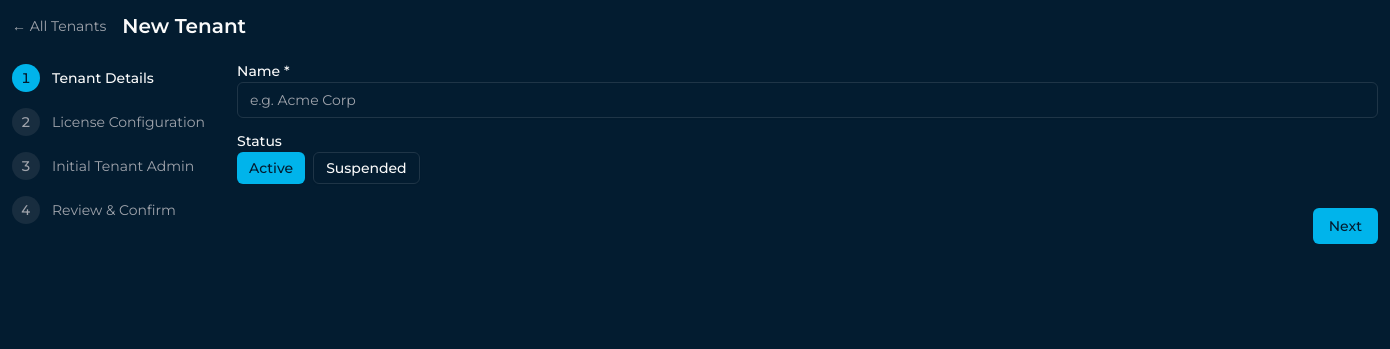
TenantProvisioningPage › step 3 validation: with skip unchecked, Next with empty fields shows errors
Type "Acme Corp" into the field labelled "Name *" at x=808, y=100, box [237, 82, 1378, 118]
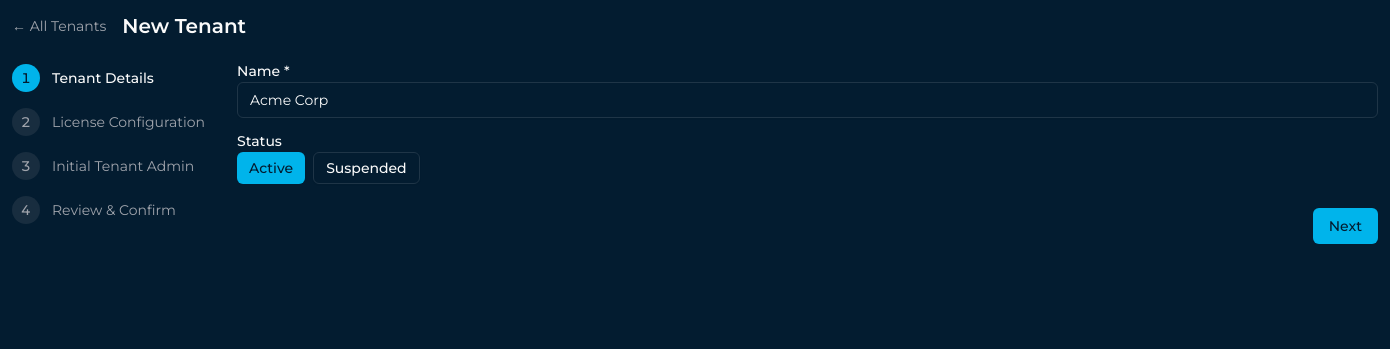
Click the button "Next" at x=1345, y=226, box [1313, 208, 1378, 244]
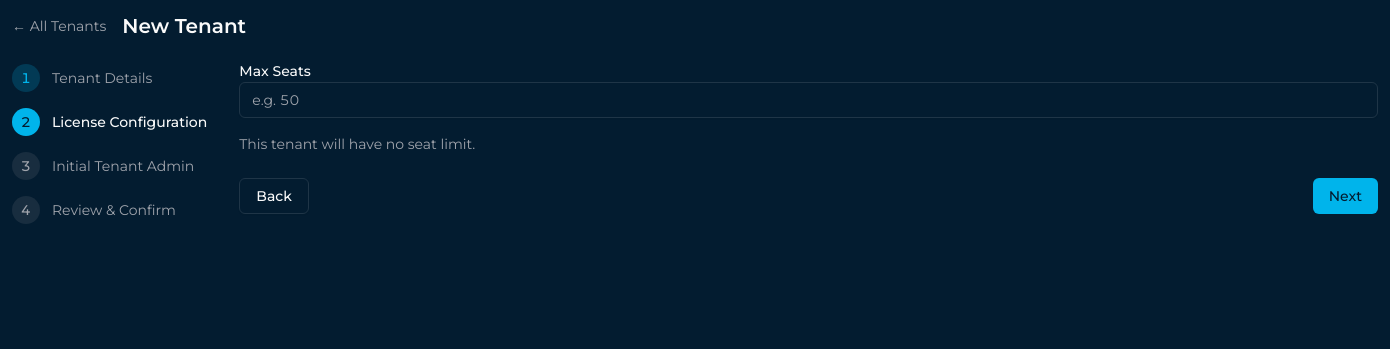
Now the number field labelled "Max Seats" is shown, box [239, 82, 1378, 118]
Click the button "Next" at x=1345, y=196, box [1313, 178, 1378, 214]
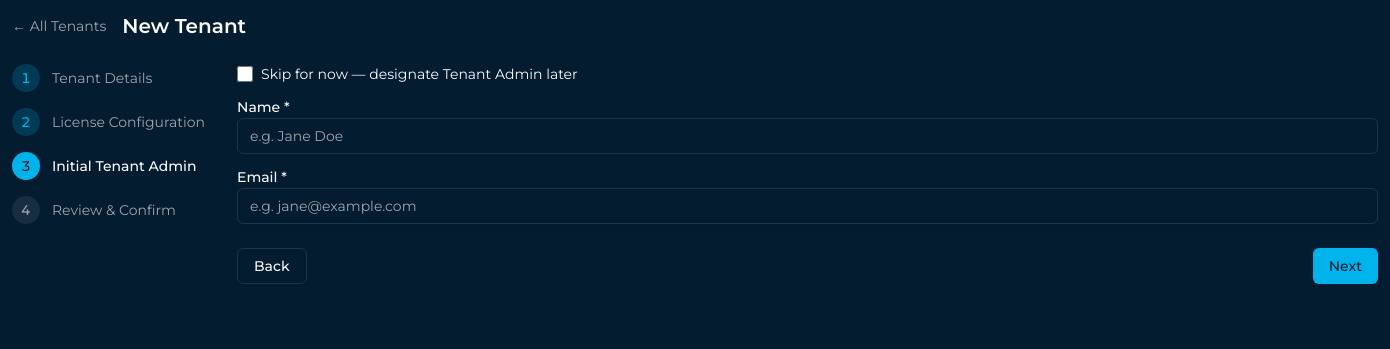
Now the text "Skip for now — designate Tenant Admin later" is shown, box [261, 64, 578, 84]
Click the button "Next" at x=1345, y=266, box [1313, 248, 1378, 284]
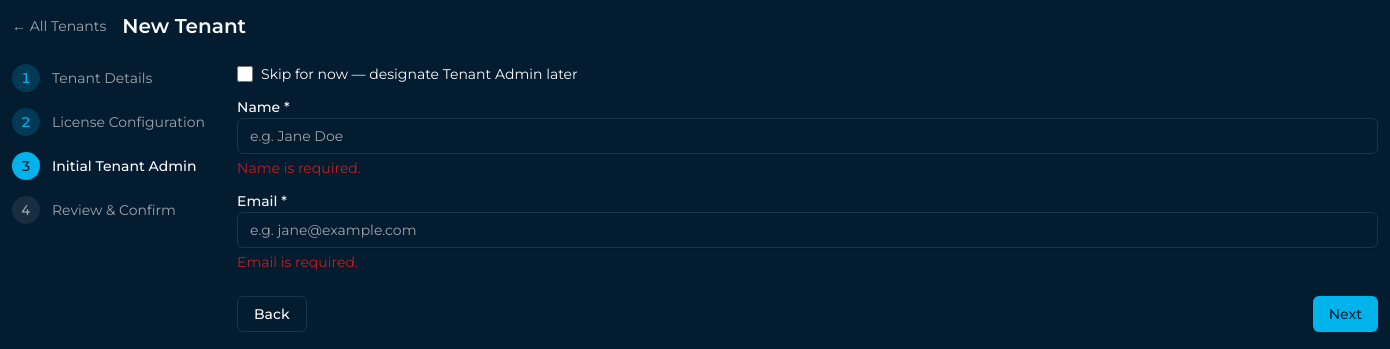
Now the text "Name is required." is shown, box [237, 159, 361, 177]
Now the text "Email is required." is shown, box [237, 253, 358, 271]
